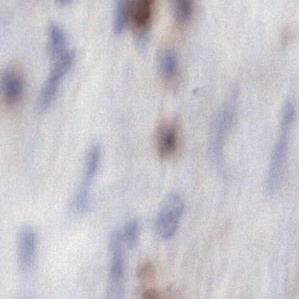Lymphocyte: (159, 120, 181, 159)
